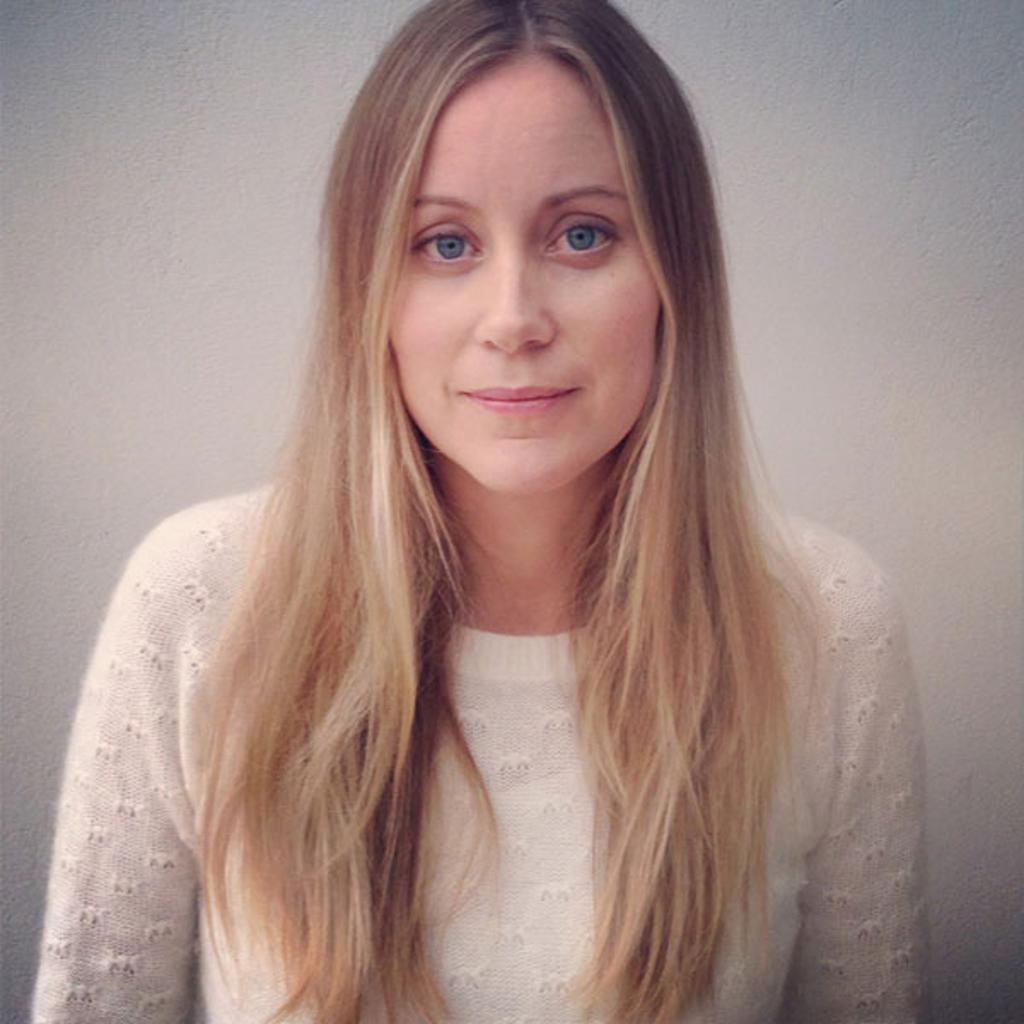face: (399, 59, 661, 489)
